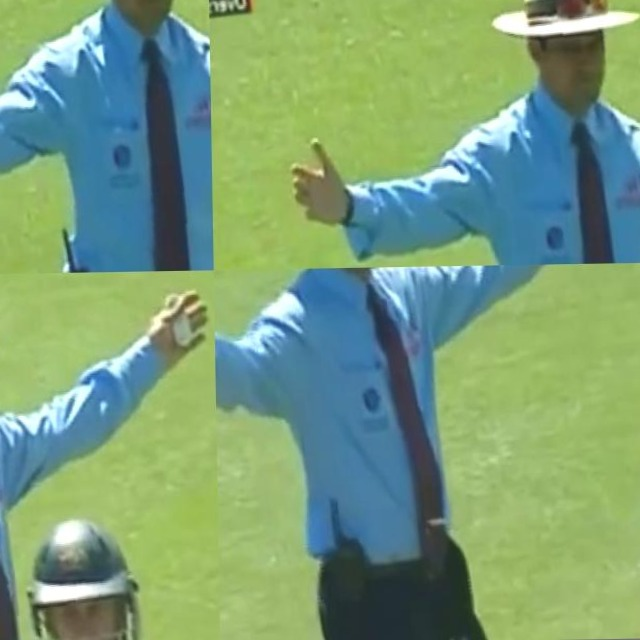No_Ball: (266, 0, 640, 269), (0, 0, 214, 274)
Wide: (214, 263, 640, 640), (0, 270, 220, 631)
